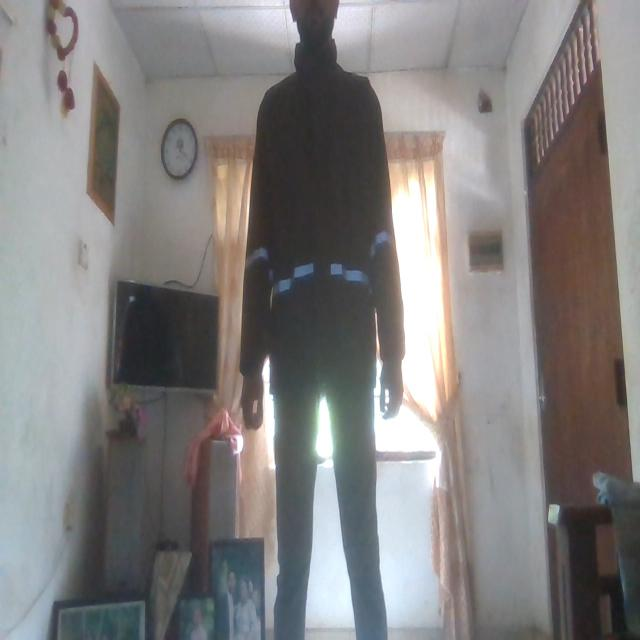Jacket_Wearer: (243, 51, 408, 439)
Person: (236, 0, 400, 640)
